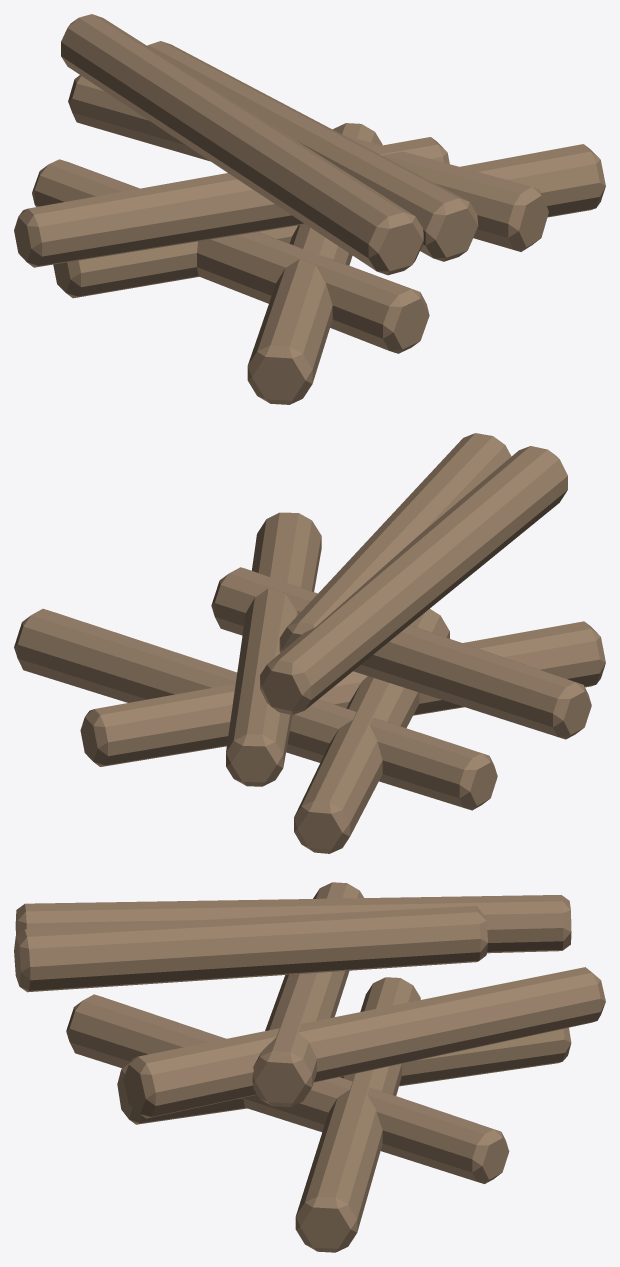
The model's file is p_firewood.glb.
3 views of the same model, one above another, from view 1: azimuth 30°, elevation 25°; view 2: azimuth 150°, elevation 25°; view 3: azimuth 270°, elevation 25° (orthographic). The views are drawn at different scales.
Visible parts, largest first — view 1: firewood; view 2: firewood; view 3: firewood.
Part boxes in pixels (<box>): firewood: <box>14,14,605,404</box>; firewood: <box>14,433,605,853</box>; firewood: <box>14,882,605,1252</box>.
Bounding box in the file's own units: 0.8809 × 0.2865 × 0.8389.
